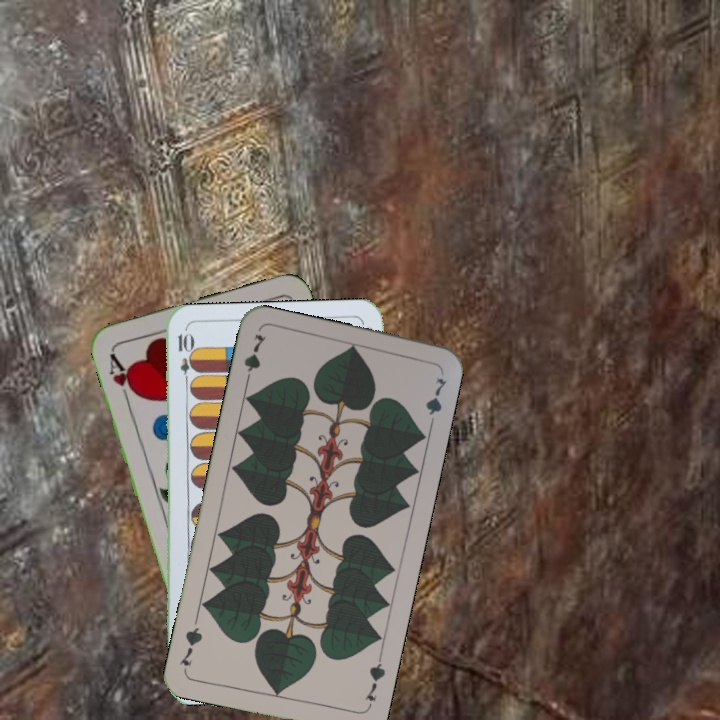E10: (173, 329, 193, 388)
G7: (239, 330, 269, 388), (360, 653, 388, 712)
HA: (105, 349, 139, 405)
